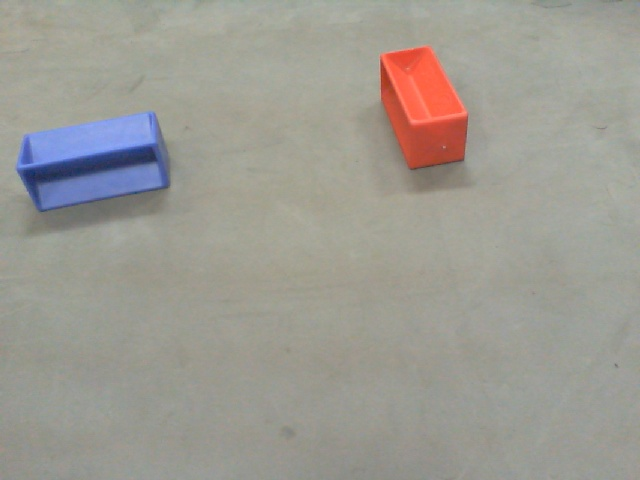BlueSample: (18, 108, 172, 220)
RedSample: (378, 44, 472, 169)
